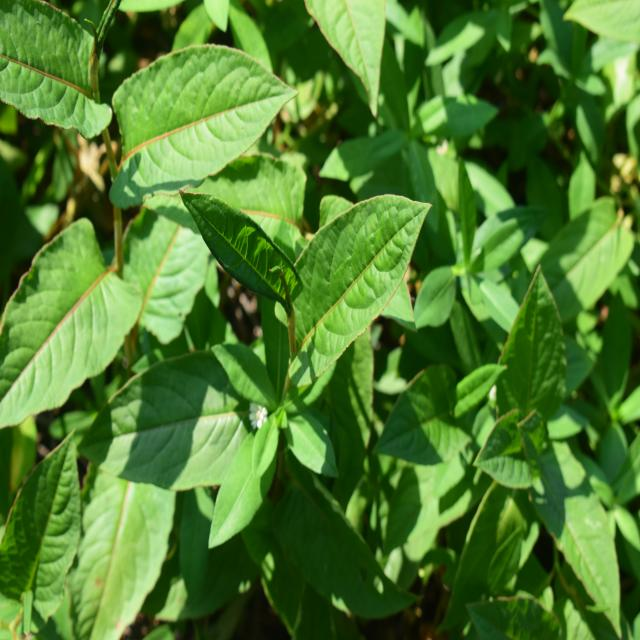Chinese_knotweed: (0, 5, 252, 414), (194, 179, 433, 374)
